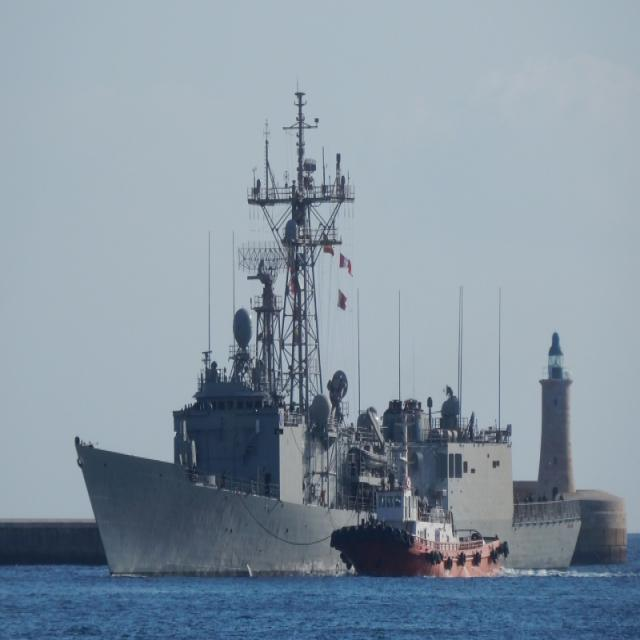Fragata: (74, 60, 587, 587)
